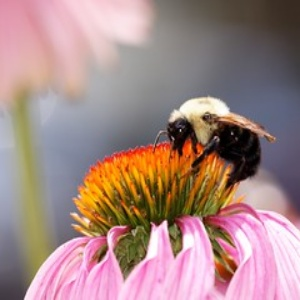bee: (150, 94, 282, 193)
